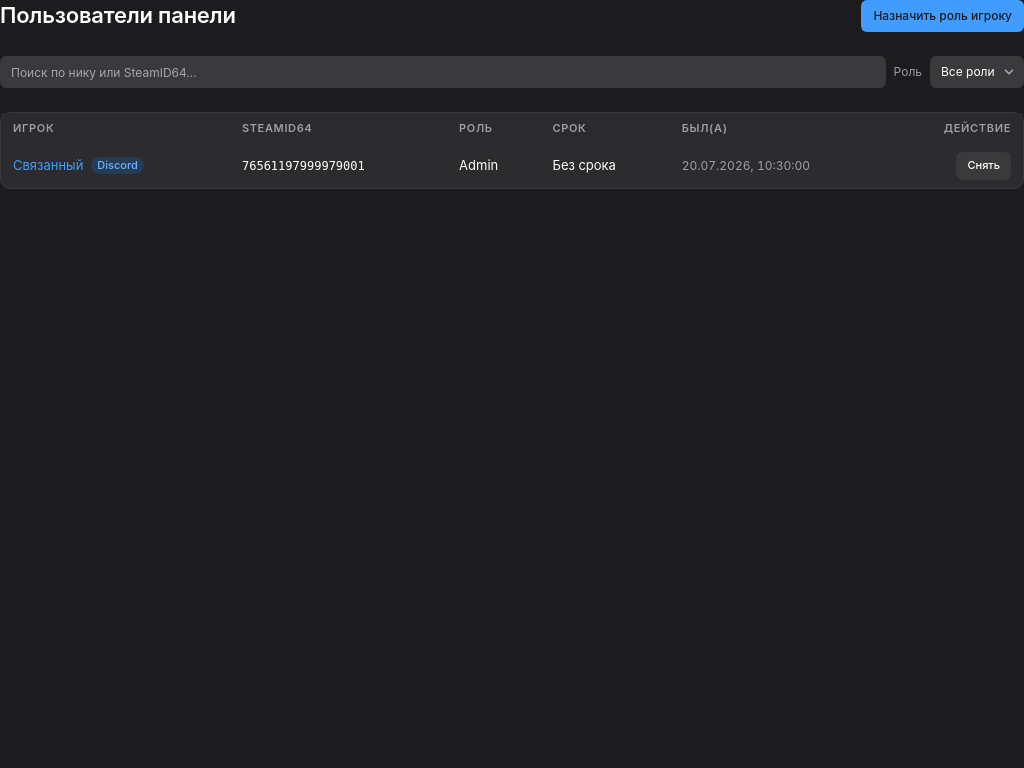
Scenario: UsersBrowser role removal › sends nothing when the confirmation is dismissed
Click the button "Снять" at (984, 166), box [956, 152, 1011, 180]
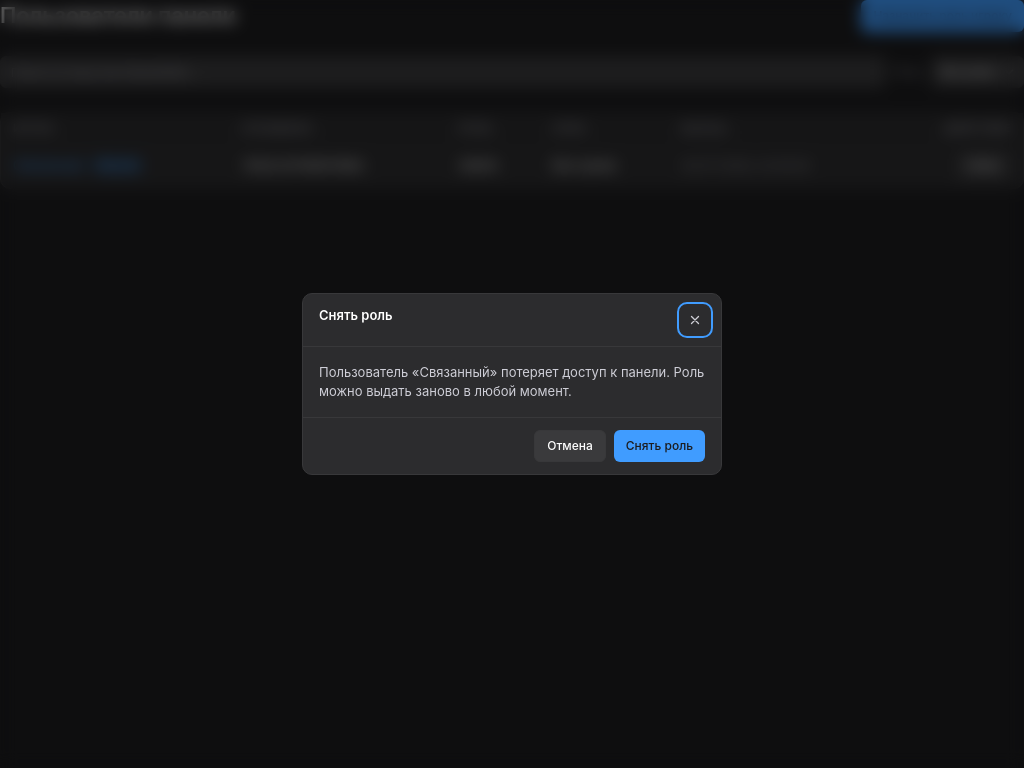
Check: the button "Снять роль" is shown, box [614, 430, 705, 462]
Click the button named "Отмена" at (695, 320), box [681, 306, 709, 334]
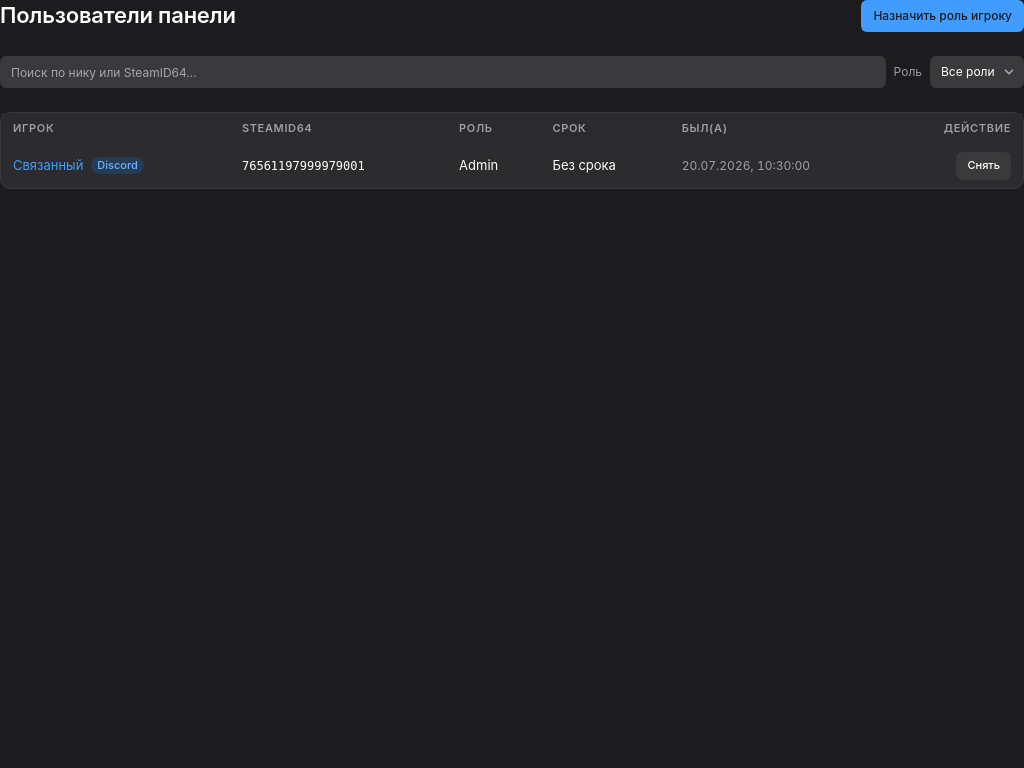
Check: the heading "Снять роль" is gone
